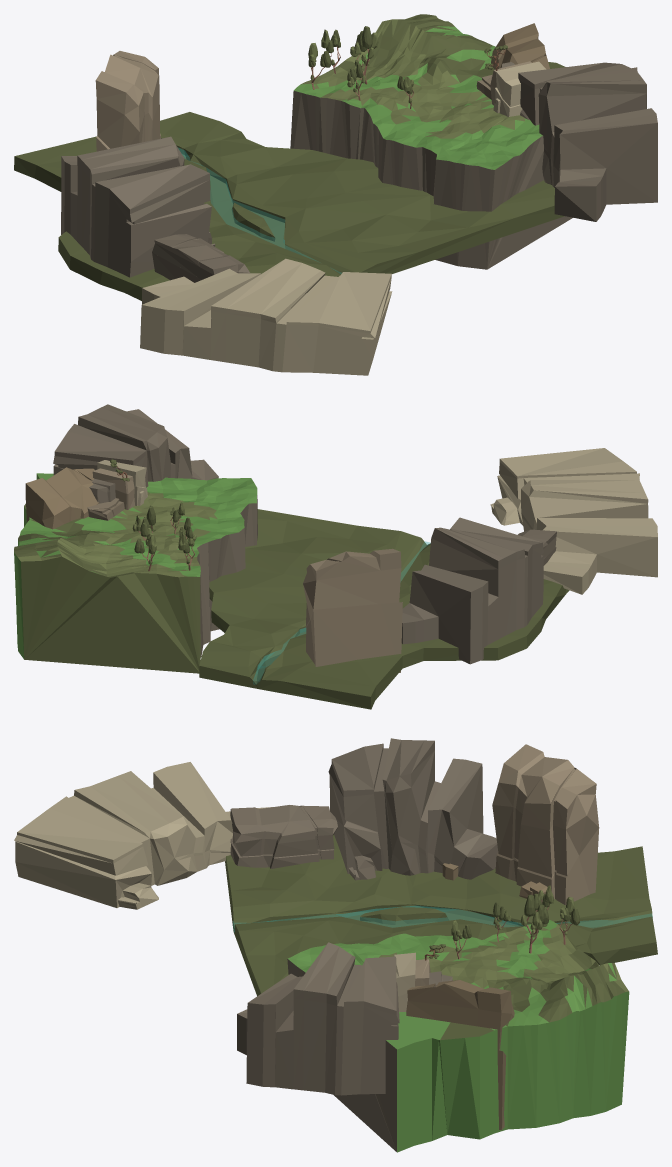
The model's file is environment.dae.
The picture shows the model from 3 angles, top to bottom: view 1: azimuth 30°, elevation 25°; view 2: azimuth 150°, elevation 25°; view 3: azimuth 270°, elevation 25°; orthographic projection. The views are drawn at different scales.
Visible parts, largest first — view 1: Cube_020, Cube_003, Cube_018, Cube_008, Cube_012, Cube_010, Cube_017, Cube_019, Cube_007, Cube_009, Cube_002; view 2: Cube_003, Cube_020, Cube_018, Cube_012, Cube_010, Cube_008, Cube_007, Cube_005, Cube_009, Cube_017, Cube_006, Cube_019 (+1 smaller); view 3: Cube_003, Cube_020, Cube_018, Cube_012, Cube_008, Cube_010, Cube_017, Cube_007, Cube_019, Cube_002, Cube_009.
Part boxes in pixels (x1,y1,x2,y2): Cube_020: (14, 112, 564, 300); Cube_003: (290, 14, 572, 269); Cube_018: (140, 258, 392, 375); Cube_008: (518, 62, 657, 221); Cube_012: (61, 136, 215, 277); Cube_010: (95, 51, 160, 151); Cube_017: (152, 234, 249, 282); Cube_019: (178, 147, 341, 273); Cube_007: (491, 23, 549, 69); Cube_009: (495, 61, 546, 116); Cube_002: (231, 203, 275, 241); Cube_003: (14, 473, 257, 673); Cube_020: (199, 509, 569, 709); Cube_018: (490, 448, 657, 594); Cube_012: (401, 517, 543, 664); Cube_010: (303, 548, 402, 672); Cube_008: (53, 404, 218, 487); Cube_007: (25, 467, 99, 529); Cube_005: (92, 468, 134, 509); Cube_009: (97, 460, 147, 505); Cube_017: (518, 529, 556, 565); Cube_006: (87, 498, 124, 520); Cube_019: (253, 541, 430, 684); Cube_003: (287, 920, 629, 1152); Cube_020: (225, 834, 657, 996); Cube_018: (14, 762, 272, 909); Cube_012: (328, 738, 497, 880); Cube_008: (237, 942, 399, 1095); Cube_010: (492, 744, 599, 905); Cube_017: (230, 805, 337, 868); Cube_007: (406, 980, 514, 1130); Cube_019: (233, 906, 652, 931); Cube_002: (360, 907, 449, 924); Cube_009: (393, 952, 415, 1011).
Bounding box in the file's own units: 118 × 111 × 34.44.
